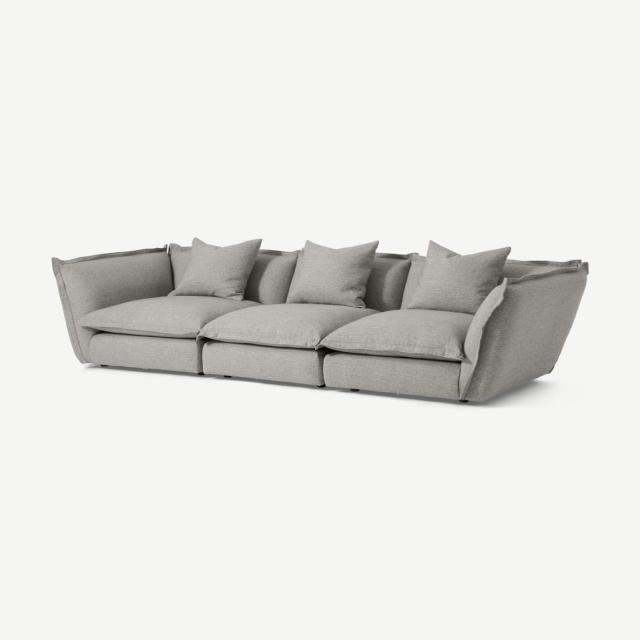back_cushion: (170, 238, 580, 314)
left_arm: (459, 263, 587, 400)
right_arm: (52, 246, 172, 363)
seat_cushion: (81, 296, 470, 399)
stallion-sofa: (0, 0, 639, 639)
